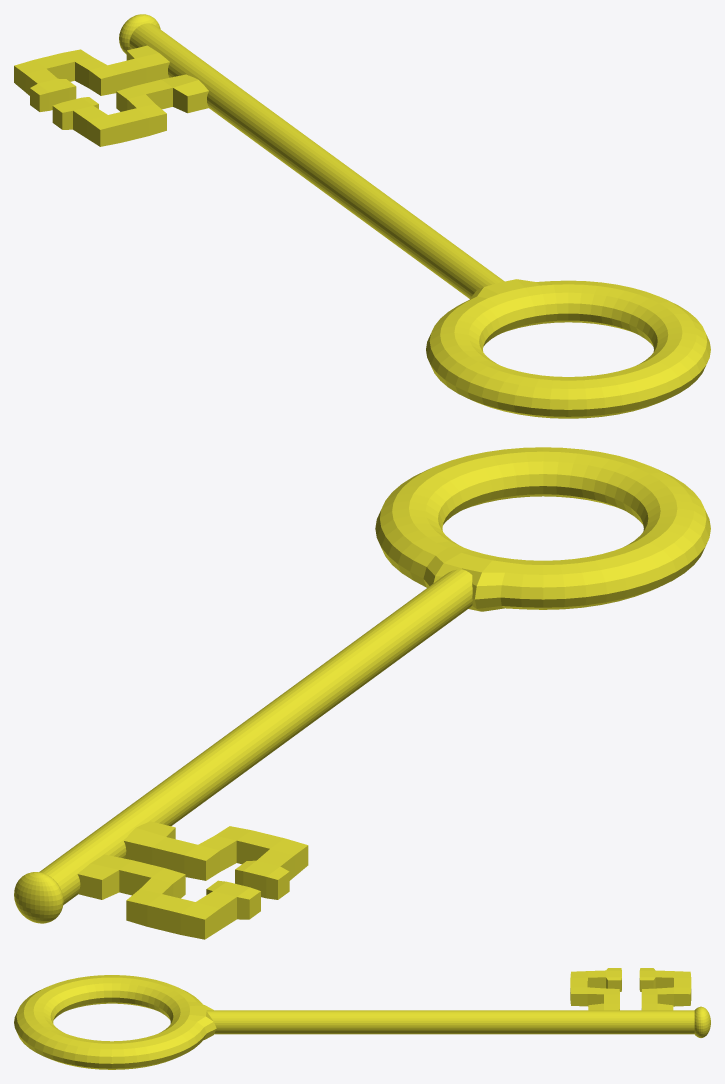
Rendered from Key1.fbx.
3 views of the same model, one above another, from view 1: azimuth 30°, elevation 25°; view 2: azimuth 150°, elevation 25°; view 3: azimuth 270°, elevation 25° (orthographic). The views are drawn at different scales.
Parts seen in each view (by area): view 1: Тор; view 2: Тор; view 3: Тор.
Boxes of the visible parts, x1,y1,x2,y2 form: Тор: (14, 14, 710, 418); Тор: (14, 447, 710, 939); Тор: (14, 968, 710, 1069).
Size of the model in its own units: 0.0248 by 0.00366 by 0.0811.
